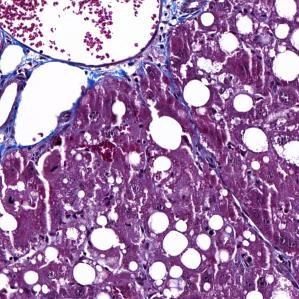fibrosis: (91, 60, 184, 93)
